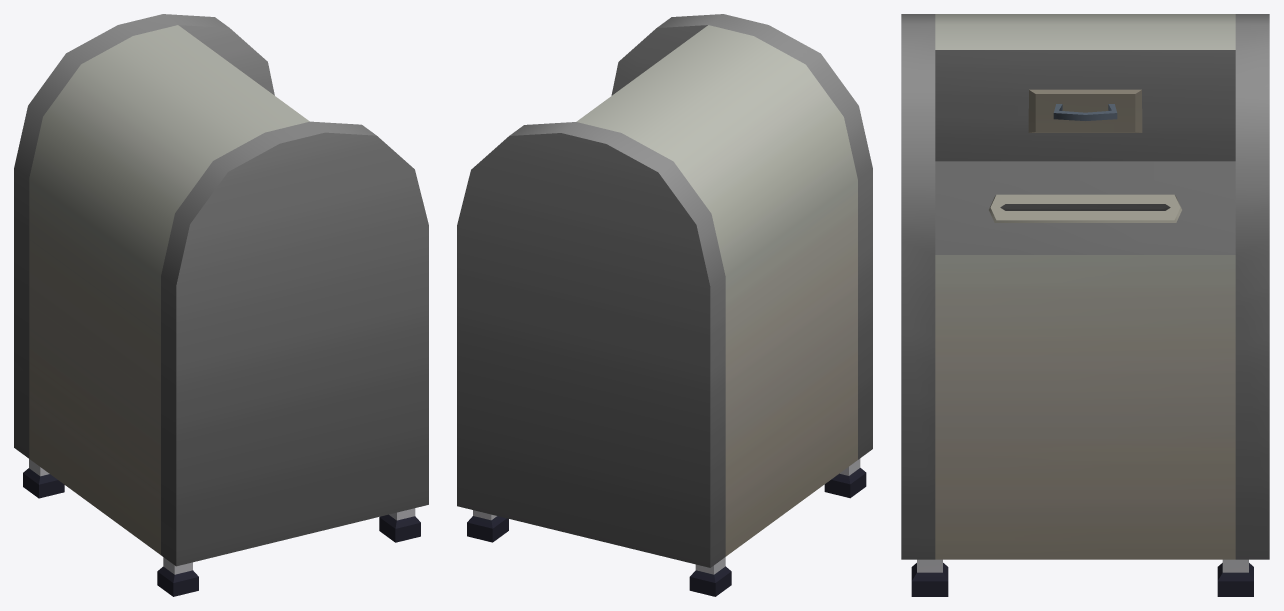
File: PostBox_1_C.fbx
3 views of the same model, side by side, from view 1: azimuth 30°, elevation 25°; view 2: azimuth 150°, elevation 25°; view 3: azimuth 270°, elevation 25° (orthographic). The views are drawn at different scales.
Parts seen in each view (by area): view 1: PostBox_1_C; view 2: PostBox_1_C; view 3: PostBox_1_C.
Part boxes in pixels (x1,y1,x2,y2): PostBox_1_C: [14, 14, 428, 596]; PostBox_1_C: [457, 14, 872, 596]; PostBox_1_C: [901, 14, 1269, 596].
Size of the model in its own units: 51.21 by 83.66 by 56.89.
